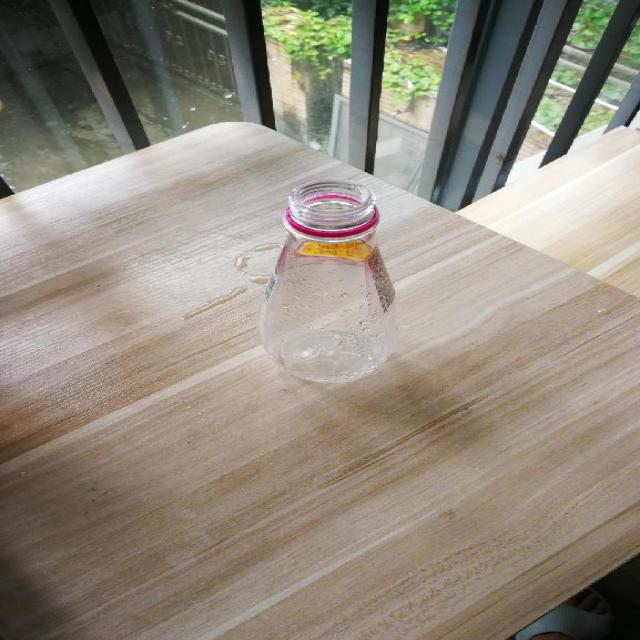-Recyclables - plastic bottle-: (269, 176, 397, 386)
